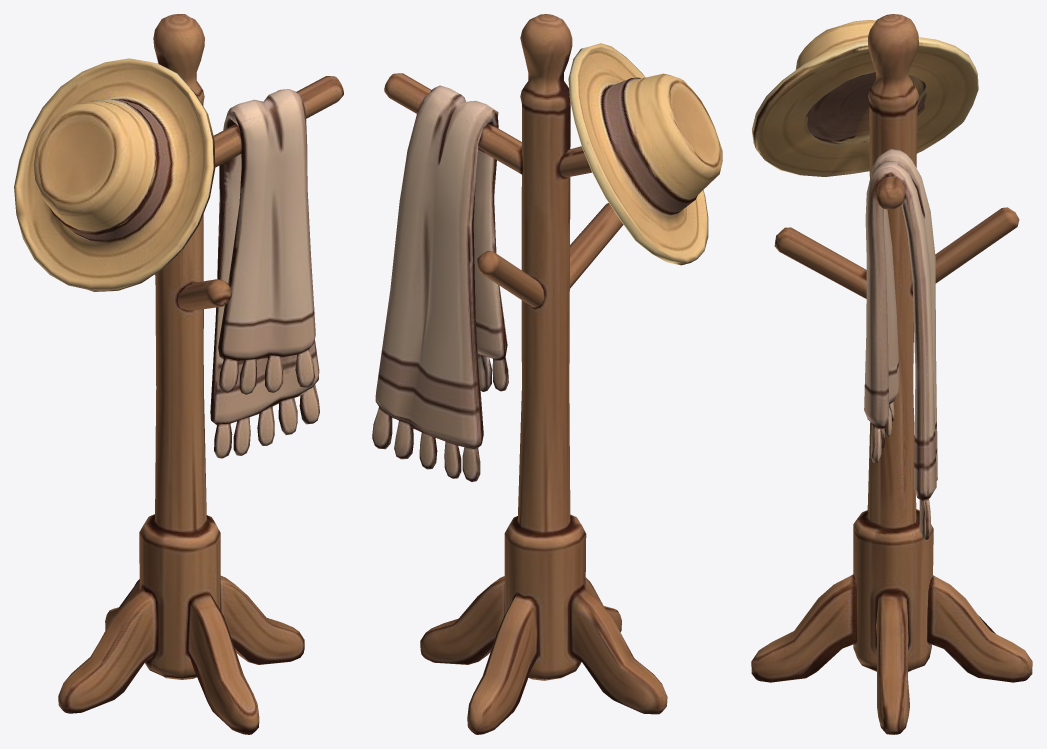
The model's file is item-coatRack.glb.
3 renders of one model, left to right at view 1: azimuth 30°, elevation 25°; view 2: azimuth 150°, elevation 25°; view 3: azimuth 270°, elevation 25°, orthographic.
Size of the model in its own units: 0.4663 by 0.9517 by 0.3667.
1 material, 1 textured.
